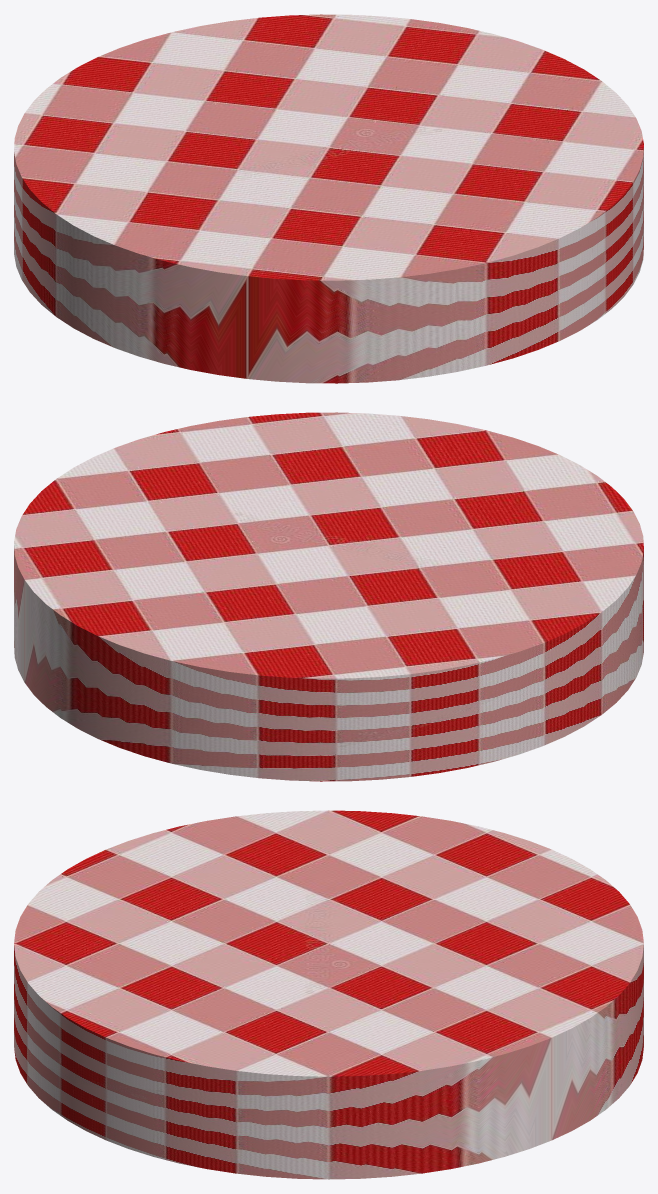
Rendered from table.gltf.
3 renders of one model, top to bottom at view 1: azimuth 30°, elevation 25°; view 2: azimuth 150°, elevation 25°; view 3: azimuth 270°, elevation 25°, orthographic.
Visible parts, largest first — view 1: Ellipse; view 2: Ellipse; view 3: Ellipse.
Part boxes in pixels (x1=…): Ellipse: x1=14, y1=14, x2=643, y2=383; Ellipse: x1=14, y1=412, x2=643, y2=781; Ellipse: x1=14, y1=810, x2=643, y2=1179.
Bounding box in the file's own units: 1 × 0.18 × 1.
1 material, 1 textured.
